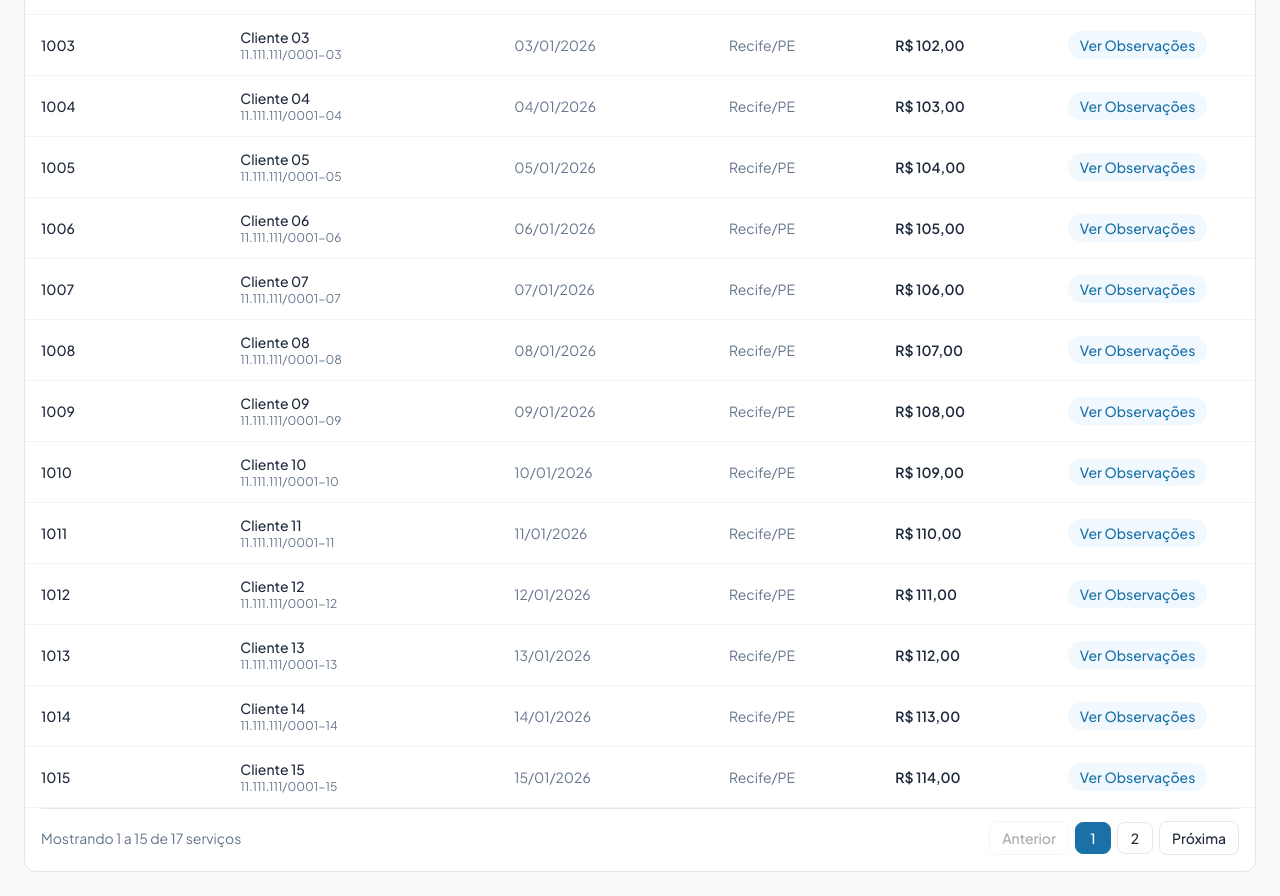
Test: paginacao em Servicos › Anterior volta para a primeira
(page scrolled)
Step 1. Click the button "Próxima" → click(1199, 838), box [1159,821,1239,855]
(page scrolled)
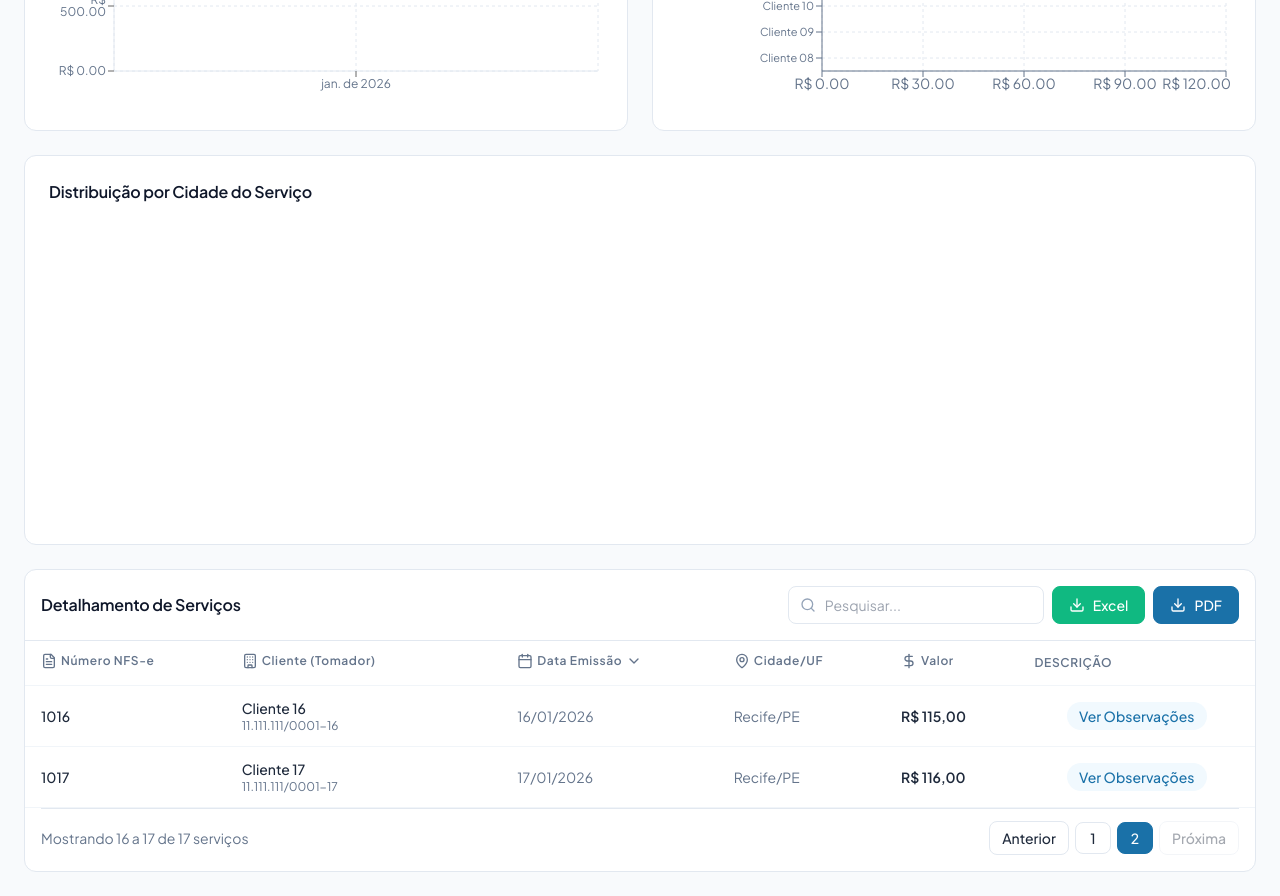
Step 2. Click the button "Anterior" → click(1029, 838), box [989,821,1069,855]
(page scrolled)
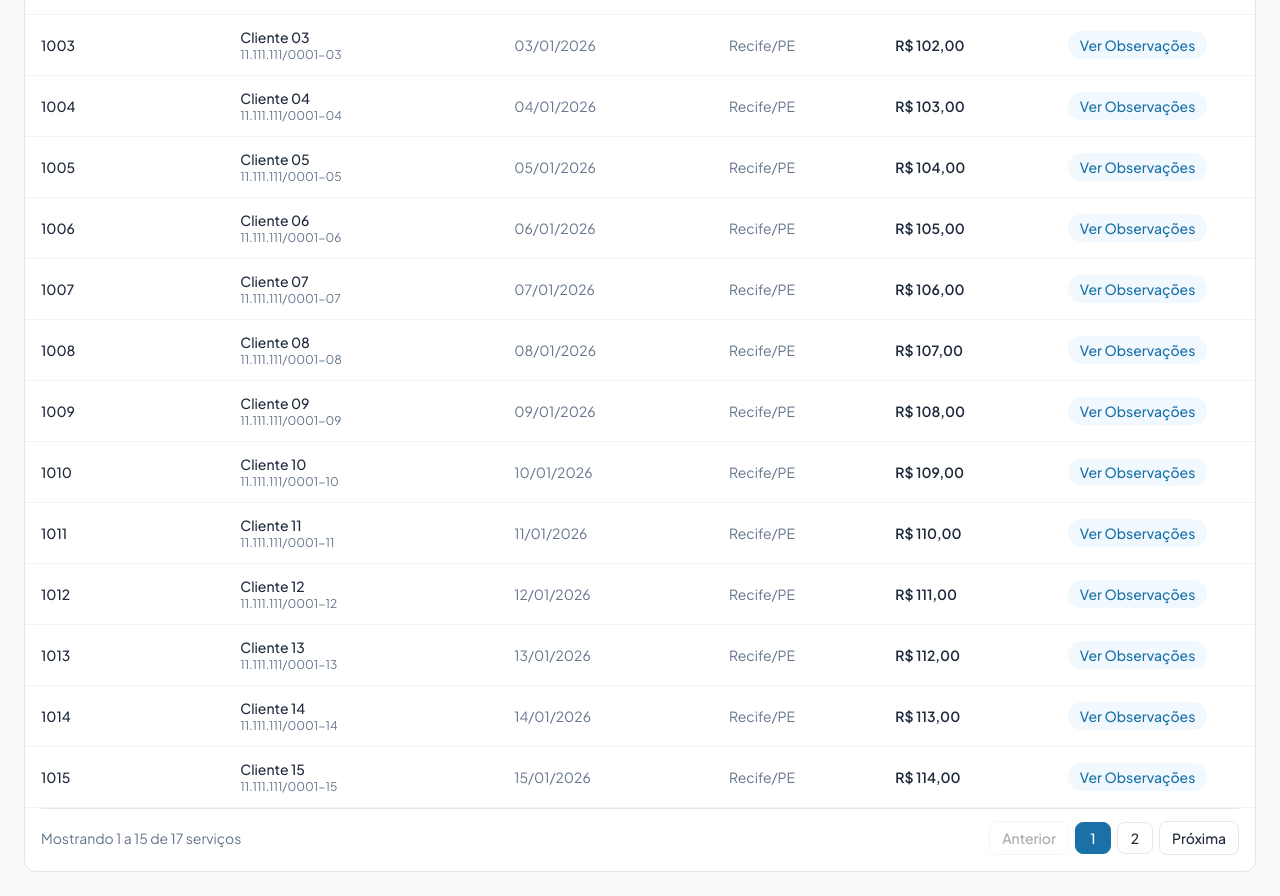
Expected: the text "Mostrando 1 a 15 de 17 serviços" is shown, [41,828,241,848]
